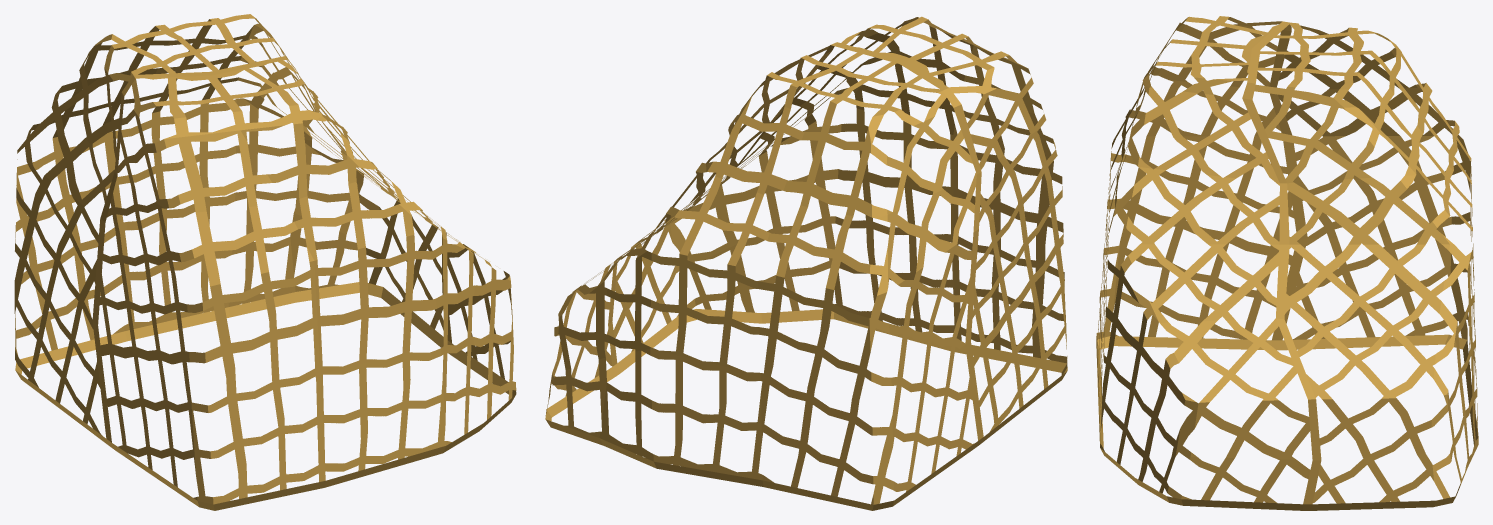
Rendered from SM_Prop_Crate_Stack_Cover_02.glb.
3 renders of one model, left to right at view 1: azimuth 30°, elevation 25°; view 2: azimuth 150°, elevation 25°; view 3: azimuth 270°, elevation 25°, orthographic. The views are drawn at different scales.
Parts seen in each view (by area): view 1: SM_Prop_Crate_Stack_Cover_02; view 2: SM_Prop_Crate_Stack_Cover_02; view 3: SM_Prop_Crate_Stack_Cover_02.
Part boxes in pixels (<box>): SM_Prop_Crate_Stack_Cover_02: <box>14,14,516,510</box>; SM_Prop_Crate_Stack_Cover_02: <box>545,16,1067,510</box>; SM_Prop_Crate_Stack_Cover_02: <box>1096,16,1478,510</box>.
Size of the model in its own units: 1.85 by 1.78 by 1.8.
Materials: 1 (1 with a texture image).
